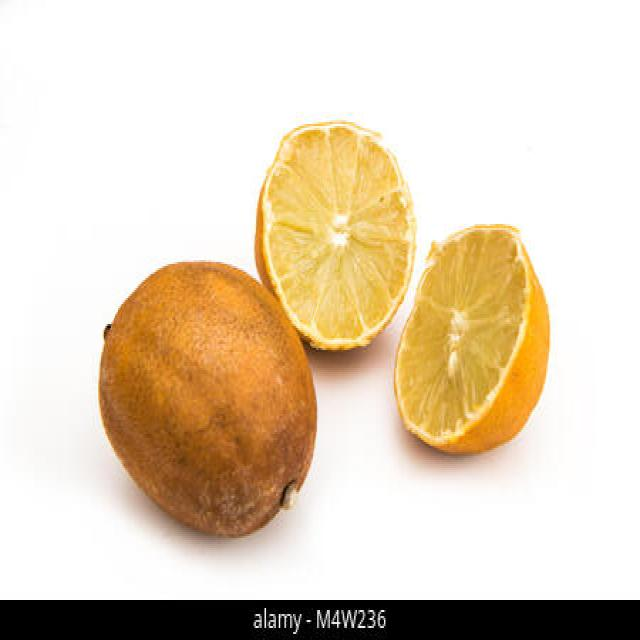overripe: (93, 249, 319, 538)
